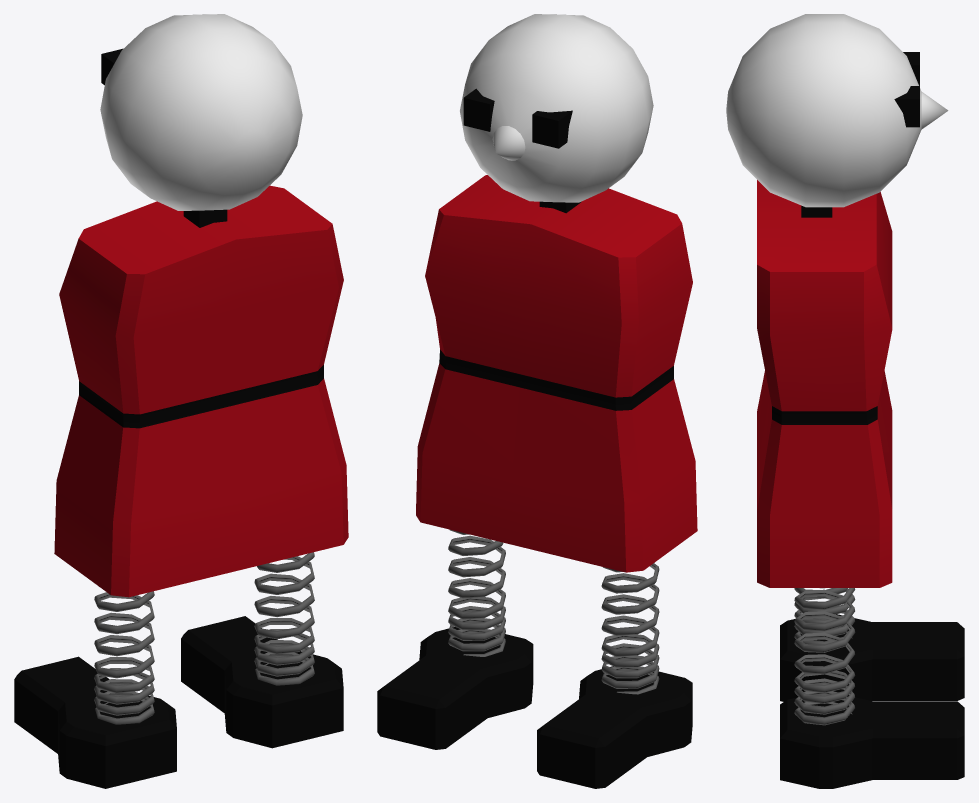
The model's file is H-JumpMan.fbx.
3 views of the same model, side by side, from view 1: azimuth 30°, elevation 25°; view 2: azimuth 150°, elevation 25°; view 3: azimuth 270°, elevation 25° (orthographic). The views are drawn at different scales.
Visible parts, largest first — view 1: SpringMan, Foot; view 2: SpringMan, Foot; view 3: SpringMan, Foot.
Part boxes in pixels (left/top/right/bottom): SpringMan: left=54, top=14, right=348, bottom=597; Foot: left=14, top=552, right=343, bottom=788; SpringMan: left=416, top=14, right=697, bottom=572; Foot: left=377, top=529, right=692, bottom=788; SpringMan: left=726, top=14, right=948, bottom=587; Foot: left=780, top=588, right=964, bottom=788.
Bounding box in the file's own units: 55.06 × 138 × 42.51.
